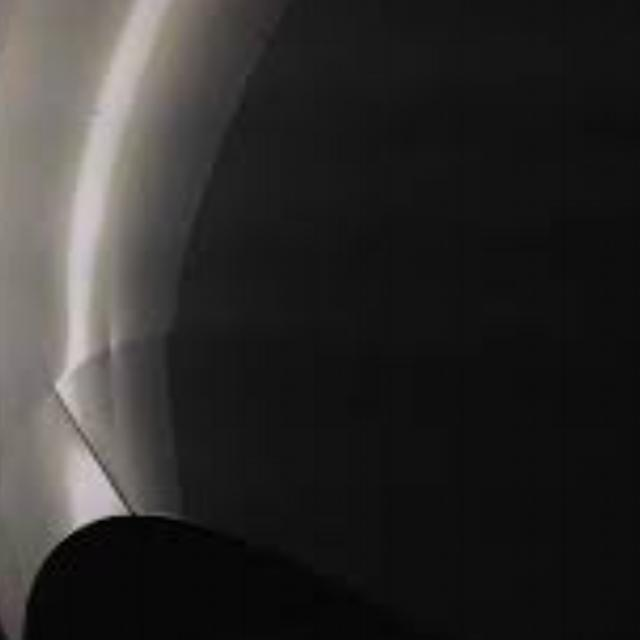dents: (66, 271, 174, 466)
